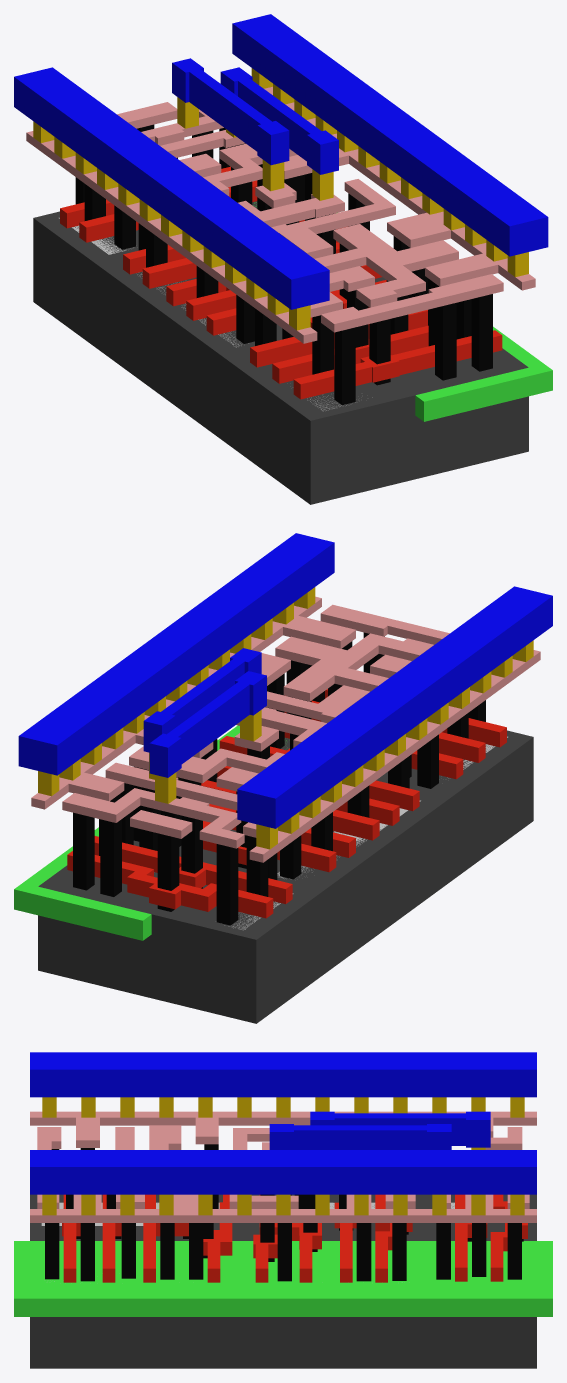
File: sky130_fd_sc_hd__dlrtp_1.obj
The picture shows the model from 3 angles, top to bottom: view 1: azimuth 30°, elevation 25°; view 2: azimuth 150°, elevation 25°; view 3: azimuth 270°, elevation 25°; orthographic projection. The views are drawn at different scales.
Parts seen in each view (by area): view 1: metal1, subs, li, licon, poly, mcon, nwell, diff; view 2: metal1, subs, li, licon, poly, mcon, nwell; view 3: metal1, subs, nwell, li, licon, poly, mcon.
Boxes of the visible parts, box(x1,y1,x2,y2) form: metal1: box(14, 14, 548, 309); subs: box(33, 201, 528, 504); li: box(26, 86, 535, 343); licon: box(75, 124, 492, 405); poly: box(60, 166, 502, 399); mcon: box(33, 68, 528, 330); nwell: box(253, 202, 552, 421); diff: box(59, 217, 372, 411); metal1: box(18, 533, 552, 828); subs: box(38, 730, 533, 1023); li: box(31, 596, 540, 862); licon: box(73, 632, 485, 925); poly: box(67, 689, 506, 918); mcon: box(38, 587, 533, 849); nwell: box(14, 725, 286, 940); metal1: box(30, 1052, 536, 1194); subs: box(30, 1194, 536, 1368); nwell: box(14, 1241, 552, 1316); li: box(30, 1111, 536, 1222); licon: box(45, 1144, 523, 1281); poly: box(62, 1194, 527, 1282); mcon: box(42, 1097, 524, 1215).
Size of the model in its own units: 3.2 by 2.74 by 6.36.
